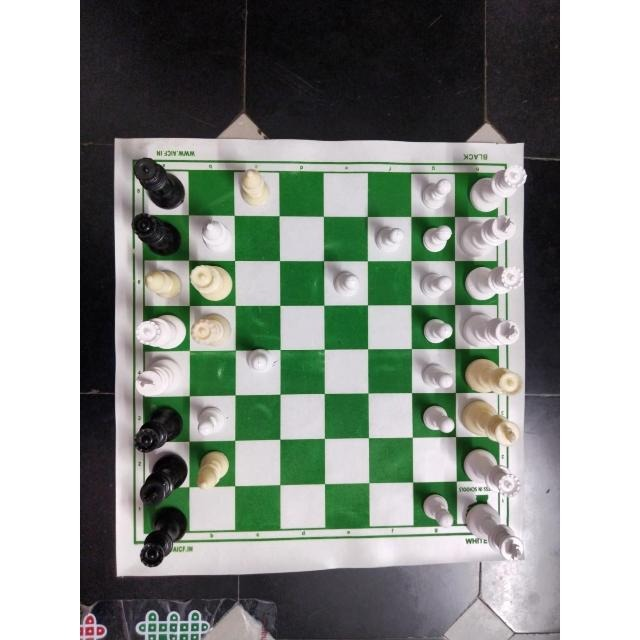black-king: (133, 454, 190, 506)
black-queen: (135, 507, 191, 571), (130, 156, 186, 211), (127, 213, 185, 259), (132, 404, 184, 452)
white-bishop: (138, 263, 186, 305), (194, 216, 236, 260), (234, 169, 276, 210), (193, 449, 232, 493)
white-king: (461, 499, 525, 563), (458, 395, 525, 449), (457, 214, 521, 259), (456, 307, 522, 349), (131, 355, 185, 396)
white-pawn: (416, 400, 460, 440), (417, 173, 455, 216), (421, 490, 457, 534), (412, 267, 453, 305), (416, 358, 457, 394), (369, 221, 409, 257), (421, 314, 457, 348), (329, 267, 363, 301), (419, 223, 453, 256), (192, 405, 227, 436), (243, 348, 277, 376)
white-queen: (466, 162, 528, 217), (463, 445, 527, 497), (462, 357, 526, 403), (461, 263, 523, 305), (131, 312, 193, 352), (189, 308, 237, 354), (187, 258, 235, 302)
